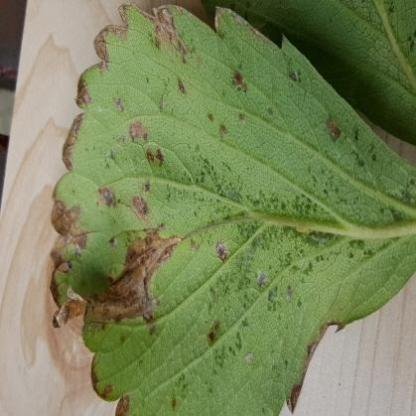Strawberry_Angular_LeafSpot: (48, 1, 415, 415)
